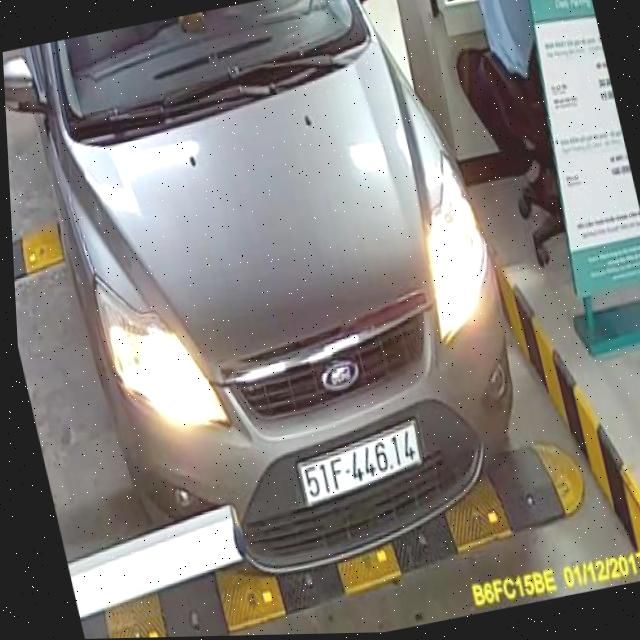car: (0, 0, 563, 616)
plate: (291, 423, 433, 513)
